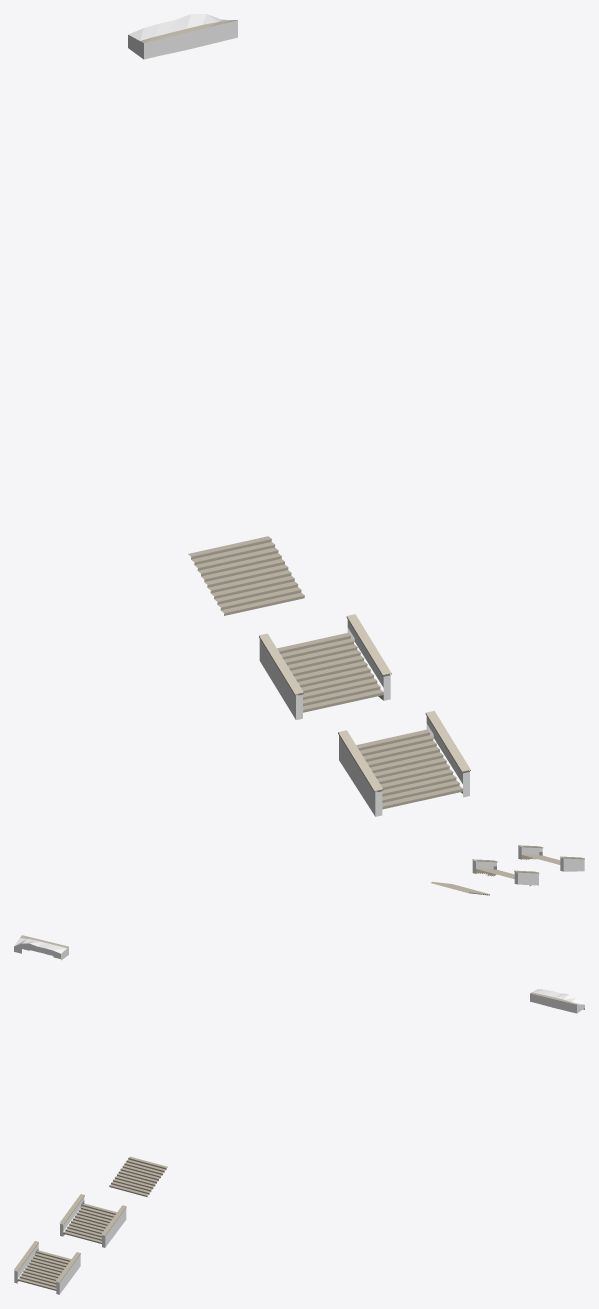
File: SM_BM_BC_Works_2_2.glb
The picture shows the model from 3 angles, top to bottom: view 1: azimuth 30°, elevation 25°; view 2: azimuth 150°, elevation 25°; view 3: azimuth 330°, elevation 25°; orthographic projection. The views are drawn at different scales.
Parts seen in each view (by area): view 1: SM_BM_BC_Works_2_2; view 2: SM_BM_BC_Works_2_2; view 3: SM_BM_BC_Works_2_2.
Part boxes in pixels (x1,y1,x2,y2): SM_BM_BC_Works_2_2: [128, 14, 470, 816]; SM_BM_BC_Works_2_2: [14, 845, 584, 960]; SM_BM_BC_Works_2_2: [14, 989, 584, 1294].
Bounding box in the file's own units: 28.88 × 12.06 × 65.64.
